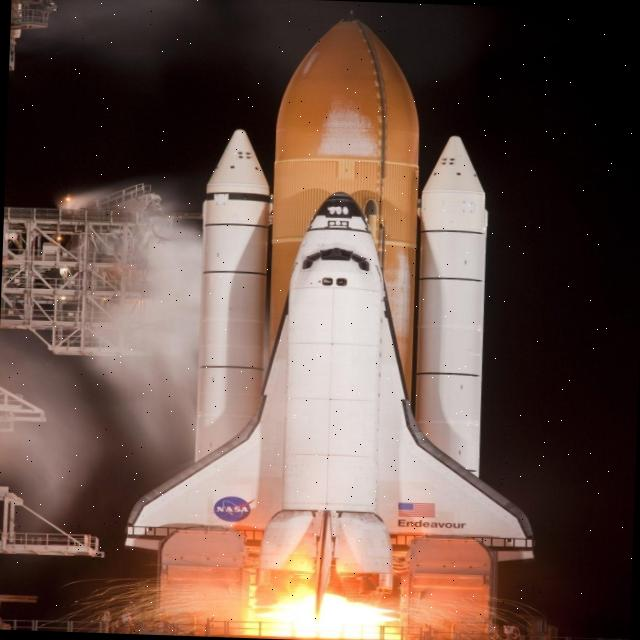rocket: (118, 180, 550, 606)
